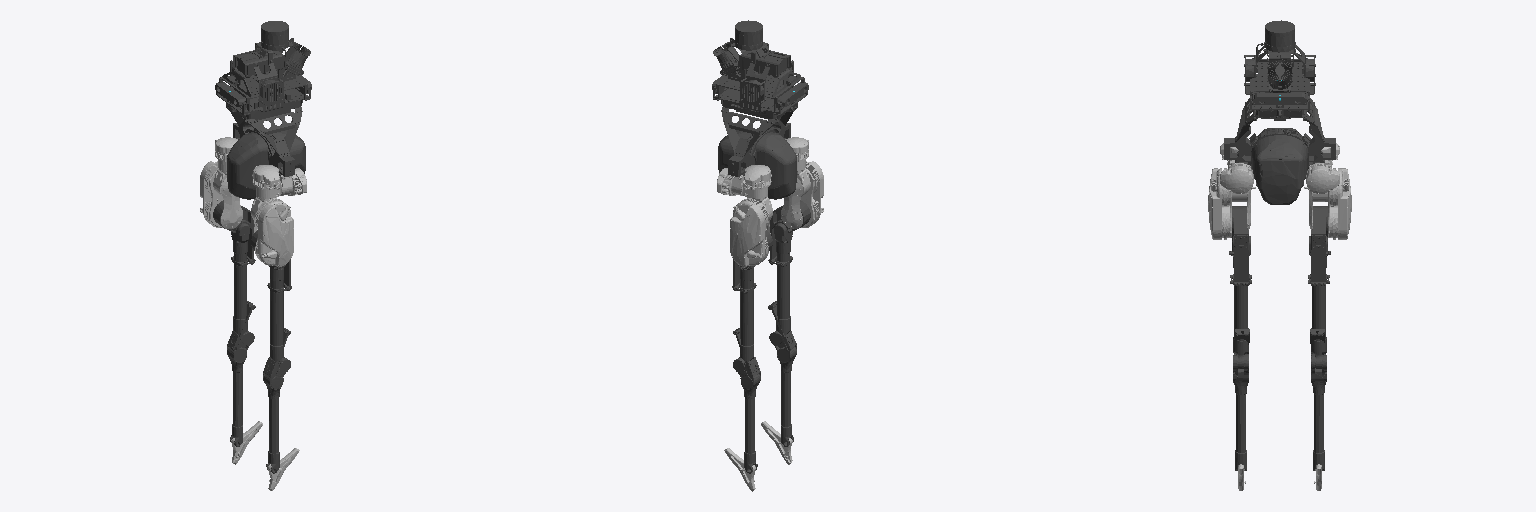
The robot description file, URDF, robot "cassie":
<?xml version="1.0" ?>
<!-- =================================================================================== -->
<!-- |    This document was autogenerated by xacro from cassie_with_torso.xacro        | -->
<!-- |    EDITING THIS FILE BY HAND IS NOT RECOMMENDED                                 | -->
<!-- =================================================================================== -->
<!-- Author: [author]
	 Email:  [email redacted]
     Date:   10/10/2018   -->
<robot name="cassie" xmlns:xacro="http://ros.org/wiki/xacro">
  <link name="torso">
    <inertial>
      <origin rpy="0 0 0" xyz="0 0 0"/>
      <mass value="8"/>
      <inertia ixx=".0942" ixy=".000169" ixz=".015" iyy=".084" iyz=".000516" izz=".113"/>
    </inertial>
    <visual>
      <origin rpy="1.57 0 1.57" xyz="-0.192 -0.19 -0.095"/>
      <geometry>
        <mesh filename="package://cassie_description/meshes/CassieTorso_Mount.STL" scale="0.001 0.001 0.001"/>
      </geometry>
      <material name="grey">
        <color rgba="0.35 0.35 0.35 1"/>
      </material>
    </visual>
  </link>
  <link name="top_lidar">
    <inertial>
      <origin rpy="0 0 0" xyz="0 0 0"/>
      <mass value="0"/>
      <inertia ixx="0" ixy="0" ixz="0" iyy="0" iyz="0" izz="0"/>
    </inertial>
    <visual>
      <origin rpy="0 0 0" xyz="0 0 0 "/>
      <geometry>
        <sphere radius="0.01"/>
      </geometry>
      <material name="cyan">
        <color rgba="0.267 0.89 1 1"/>
      </material>
    </visual>
  </link>
  <link name="tilted_lidar">
    <inertial>
      <origin rpy="0 0 0" xyz="0 0 0"/>
      <mass value="0"/>
      <inertia ixx="0" ixy="0" ixz="0" iyy="0" iyz="0" izz="0"/>
    </inertial>
    <visual>
      <origin rpy="0 0 0" xyz="0 0 0 "/>
      <geometry>
        <sphere radius="0.01"/>
      </geometry>
      <material name="cyan">
        <color rgba="0.267 0.89 1 1"/>
      </material>
    </visual>
  </link>
  <link name="front_camera">
    <inertial>
      <origin rpy="0 0 0" xyz="0 0 0"/>
      <mass value="0"/>
      <inertia ixx="0" ixy="0" ixz="0" iyy="0" iyz="0" izz="0"/>
    </inertial>
    <visual>
      <origin rpy="0 0 0" xyz="0 0 0 "/>
      <geometry>
        <sphere radius="0.01"/>
      </geometry>
      <material name="cyan">
        <color rgba="0.267 0.89 1 1"/>
      </material>
    </visual>
  </link>
  <link name="back_camera">
    <inertial>
      <origin rpy="0 0 0" xyz="0 0 0"/>
      <mass value="0"/>
      <inertia ixx="0" ixy="0" ixz="0" iyy="0" iyz="0" izz="0"/>
    </inertial>
    <visual>
      <origin rpy="0 0 0" xyz="0 0 0 "/>
      <geometry>
        <sphere radius="0.01"/>
      </geometry>
      <material name="cyan">
        <color rgba="0.267 0.89 1 1"/>
      </material>
    </visual>
  </link>
  <link name="vectorNav">
    <inertial>
      <origin rpy="0 0 0" xyz="0 0 0"/>
      <mass value="0"/>
      <inertia ixx="0" ixy="0" ixz="0" iyy="0" iyz="0" izz="0"/>
    </inertial>
  </link>
  <link name="pelvis">
    <inertial>
      <origin rpy="0 0 0" xyz=".0507 0 .0284"/>
      <mass value="10.33"/>
      <inertia ixx=".0942" ixy=".000169" ixz=".015" iyy=".084" iyz=".000516" izz=".113"/>
    </inertial>
    <visual>
      <origin rpy="0 0 0" xyz="0 0 0"/>
      <geometry>
        <mesh filename="package://cassie_description/meshes/pelvis.stl" scale="1 1 1"/>
      </geometry>
      <material name="grey">
        <color rgba="0.35 0.35 0.35 1"/>
      </material>
    </visual>
  </link>
  <link name="left_pelvis_abduction">
    <inertial>
      <origin rpy="0 0 0" xyz="0 0 0"/>
      <mass value="0"/>
      <inertia ixx="0" ixy="0" ixz="0" iyy="0" iyz="0" izz="0"/>
    </inertial>
    <visual>
      <origin rpy="0 0 0" xyz="0 0 0"/>
      <geometry>
        <mesh filename="package://cassie_description/meshes/abduction.stl" scale="1 1 1"/>
      </geometry>
      <material name="light_grey">
        <color rgba="0.75 0.75 0.75 1"/>
      </material>
    </visual>
  </link>
  <link name="left_pelvis_rotation">
    <inertial>
      <origin rpy="0 0 0" xyz=".0257 0.0001 .0179"/>
      <mass value="1.82"/>
      <inertia ixx=".00272" ixy="7.03e-07" ixz=".00000153" iyy=".00559" iyz="2.61e-06" izz=".004640"/>
    </inertial>
    <visual>
      <origin rpy="0 0 0" xyz="0 0 0"/>
      <geometry>
        <mesh filename="package://cassie_description/meshes/yaw.stl" scale="1 1 1"/>
      </geometry>
      <material name="light_grey">
        <color rgba="0.75 0.75 0.75 1"/>
      </material>
    </visual>
  </link>
  <link name="left_hip">
    <inertial>
      <origin rpy="0 0 0" xyz="-.0557 0 0"/>
      <mass value="1.17"/>
      <inertia ixx=".000842" ixy=".000000246" ixz="-.000000625" iyy=".006080" iyz="-.00000004" izz=".006440"/>
    </inertial>
    <visual>
      <origin rpy="0 0 0" xyz="0 0 0"/>
      <geometry>
        <mesh filename="package://cassie_description/meshes/hip.stl" scale="1 1 1"/>
      </geometry>
      <material name="light_grey">
        <color rgba="0.75 0.75 0.75 1"/>
      </material>
    </visual>
  </link>
  <link name="left_thigh">
    <inertial>
      <origin rpy="0 0 0" xyz=".0598 .0001 -0.0358"/>
      <mass value="5.52"/>
      <inertia ixx=".018" ixy=".000284" ixz="-0.0117" iyy=".0563" iyz="-1.93e-05" izz=".0498"/>
    </inertial>
    <visual>
      <origin rpy="0 0 0" xyz="0 0 0"/>
      <geometry>
        <mesh filename="package://cassie_description/meshes/thigh.stl" scale="1 1 1"/>
      </geometry>
      <material name="light_grey">
        <color rgba="0.75 0.75 0.75 1"/>
      </material>
    </visual>
  </link>
  <link name="left_knee">
    <inertial>
      <origin rpy="0 0 0" xyz=".023 .0321 -0.0022"/>
      <mass value=".758"/>
      <inertia ixx=".002160" ixy=".000956" ixz="2.84e-06" iyy=".00144" iyz="7.39e-07" izz=".00334"/>
    </inertial>
    <visual>
      <origin rpy="0 0 0" xyz="0 0 0"/>
      <geometry>
        <mesh filename="package://cassie_description/meshes/knee-output.stl" scale="1 1 1"/>
      </geometry>
      <material name="grey">
        <color rgba="0.35 0.35 0.35 1"/>
      </material>
    </visual>
  </link>
  <link name="left_shin">
    <inertial>
      <origin rpy="0 0 0" xyz=".1834 .0012 0.0002"/>
      <mass value=".577"/>
      <inertia ixx=".000360" ixy=".000334" ixz="-1.94e-07" iyy=".0341" iyz="2.65e-07" izz=".0341"/>
    </inertial>
    <visual>
      <origin rpy="0 0 0" xyz="0 0 0"/>
      <geometry>
        <mesh filename="package://cassie_description/meshes/shin-bone.stl" scale="1 1 1"/>
      </geometry>
      <material name="grey">
        <color rgba="0.35 0.35 0.35 1"/>
      </material>
    </visual>
  </link>
  <link name="left_tarsus">
    <inertial>
      <origin rpy="0 0 0" xyz=".1105 -.0306 -0.0013"/>
      <mass value=".782"/>
      <inertia ixx=".00113" ixy="-.00288" ixz="-6.33e-05" iyy=".0231" iyz="3.62e-05" izz=".0239"/>
    </inertial>
    <visual>
      <origin rpy="0 0 0" xyz="0 0 0"/>
      <geometry>
        <mesh filename="package://cassie_description/meshes/tarsus.stl" scale="1 1 1"/>
      </geometry>
      <material name="grey">
        <color rgba="0.35 0.35 0.35 1"/>
      </material>
    </visual>
  </link>
  <link name="left_toe">
    <inertial>
      <origin rpy="0 0 0" xyz=".0047 .0275 -0.0001"/>
      <mass value=".15"/>
      <inertia ixx=".000287" ixy="-.0000986" ixz="-1.46e-06" iyy=".000171" iyz="1.72e-07" izz=".000449"/>
    </inertial>
    <visual>
      <origin rpy="0 0 0" xyz="0 0 0"/>
      <geometry>
        <mesh filename="package://cassie_description/meshes/toe.stl" scale="1 1 1"/>
      </geometry>
      <material name="light_grey">
        <color rgba="0.75 0.75 0.75 1"/>
      </material>
    </visual>
  </link>
  <link name="right_pelvis_abduction">
    <inertial>
      <origin rpy="0 0 0" xyz="0 0 0"/>
      <mass value="0"/>
      <inertia ixx="0" ixy="0" ixz="0" iyy="0" iyz="0" izz="0"/>
    </inertial>
    <visual>
      <origin rpy="0 0 0" xyz="0 0 0"/>
      <geometry>
        <mesh filename="package://cassie_description/meshes/abduction_mirror.stl" scale="1 1 1"/>
      </geometry>
      <material name="light_grey">
        <color rgba="0.75 0.75 0.75 1"/>
      </material>
    </visual>
  </link>
  <link name="right_pelvis_rotation">
    <inertial>
      <origin rpy="0 0 0" xyz=".0257 -0.0001 .0179"/>
      <mass value="1.82"/>
      <inertia ixx=".00272" ixy="-7.03e-07" ixz=".00000153" iyy=".00559" iyz="-2.61e-06" izz=".004640"/>
    </inertial>
    <visual>
      <origin rpy="0 0 0" xyz="0 0 0"/>
      <geometry>
        <mesh filename="package://cassie_description/meshes/yaw_mirror.stl" scale="1 1 1"/>
      </geometry>
      <material name="light_grey">
        <color rgba="0.75 0.75 0.75 1"/>
      </material>
    </visual>
  </link>
  <link name="right_hip">
    <inertial>
      <origin rpy="0 0 0" xyz="-.0557 0 0"/>
      <mass value="1.17"/>
      <inertia ixx=".000842" ixy=".000000246" ixz="-.000000625" iyy=".006080" iyz="-.00000004" izz=".006440"/>
    </inertial>
    <visual>
      <origin rpy="0 0 0" xyz="0 0 0"/>
      <geometry>
        <mesh filename="package://cassie_description/meshes/hip_mirror.stl" scale="1 1 1"/>
      </geometry>
      <material name="light_grey">
        <color rgba="0.75 0.75 0.75 1"/>
      </material>
    </visual>
  </link>
  <link name="right_thigh">
    <inertial>
      <origin rpy="0 0 0" xyz=".0598 .0001 0.0358"/>
      <mass value="5.52"/>
      <inertia ixx=".018" ixy=".000284" ixz="0.0117" iyy=".0563" iyz="1.93e-05" izz=".0498"/>
    </inertial>
    <visual>
      <origin rpy="0 0 0" xyz="0 0 0"/>
      <geometry>
        <mesh filename="package://cassie_description/meshes/thigh_mirror.stl" scale="1 1 1"/>
      </geometry>
      <material name="light_grey">
        <color rgba="0.75 0.75 0.75 1"/>
      </material>
    </visual>
  </link>
  <link name="right_knee">
    <inertial>
      <origin rpy="0 0 0" xyz=".023 .0321 0.0022"/>
      <mass value=".758"/>
      <inertia ixx=".002160" ixy=".000956" ixz="-2.84e-06" iyy=".00144" iyz="-7.39e-07" izz=".00334"/>
    </inertial>
    <visual>
      <origin rpy="0 0 0" xyz="0 0 0"/>
      <geometry>
        <mesh filename="package://cassie_description/meshes/knee-output_mirror.stl" scale="1 1 1"/>
      </geometry>
      <material name="grey">
        <color rgba="0.35 0.35 0.35 1"/>
      </material>
    </visual>
  </link>
  <link name="right_shin">
    <inertial>
      <origin rpy="0 0 0" xyz=".1834 .0012 -0.0002"/>
      <mass value=".577"/>
      <inertia ixx=".000360" ixy=".000334" ixz="1.94e-07" iyy=".0341" iyz="-2.65e-07" izz=".0341"/>
    </inertial>
    <visual>
      <origin rpy="0 0 0" xyz="0 0 0"/>
      <geometry>
        <mesh filename="package://cassie_description/meshes/shin-bone_mirror.stl" scale="1 1 1"/>
      </geometry>
      <material name="grey">
        <color rgba="0.35 0.35 0.35 1"/>
      </material>
    </visual>
  </link>
  <link name="right_tarsus">
    <inertial>
      <origin rpy="0 0 0" xyz=".1105 -.0306 0.0013"/>
      <mass value=".782"/>
      <inertia ixx=".00113" ixy="-.00288" ixz="6.33e-05" iyy=".0231" iyz="-3.62e-05" izz=".0239"/>
    </inertial>
    <visual>
      <origin rpy="0 0 0" xyz="0 0 0"/>
      <geometry>
        <mesh filename="package://cassie_description/meshes/tarsus_mirror.stl" scale="1 1 1"/>
      </geometry>
      <material name="grey">
        <color rgba="0.35 0.35 0.35 1"/>
      </material>
    </visual>
  </link>
  <link name="right_toe">
    <inertial>
      <origin rpy="0 0 0" xyz=".0047 .0275 0.0001"/>
      <mass value=".15"/>
      <inertia ixx=".000287" ixy="-.0000986" ixz="1.46e-06" iyy=".000171" iyz="-1.72e-07" izz=".000449"/>
    </inertial>
    <visual>
      <origin rpy="0 0 0" xyz="0 0 0"/>
      <geometry>
        <mesh filename="package://cassie_description/meshes/toe_mirror.stl" scale="1 1 1"/>
      </geometry>
      <material name="light_grey">
        <color rgba="0.75 0.75 0.75 1"/>
      </material>
    </visual>
  </link>
  <joint name="fixed_torso_to_pelvis" type="fixed">
    <origin rpy="0 0 0" xyz="0 0 -0.15"/>
    <parent link="torso"/>
    <child link="pelvis"/>
  </joint>
  <joint name="fixed_torso_to_top_lidar" type="fixed">
    <origin rpy="0 0 0" xyz="0.065 0 0.38"/>
    <parent link="torso"/>
    <child link="top_lidar"/>
  </joint>
  <joint name="fixed_torso_to_tilted_lidar" type="fixed">
    <origin rpy="0 0.65 0" xyz="0.14 0 0.25"/>
    <parent link="torso"/>
    <child link="tilted_lidar"/>
  </joint>
  <joint name="fixed_torso_to_front_camera" type="fixed">
    <origin rpy="0 0 0" xyz="0.16 0 0.19"/>
    <parent link="torso"/>
    <child link="front_camera"/>
  </joint>
  <joint name="fixed_torso_to_back_camera" type="fixed">
    <origin rpy="0 0 3.14" xyz="-0.12 0 0.19"/>
    <parent link="torso"/>
    <child link="back_camera"/>
  </joint>
  <joint name="fixed_pelvis_to_vectorNav" type="fixed">
    <origin rpy="0 0 0" xyz="0.03155 0 -0.07996"/>
    <parent link="pelvis"/>
    <child link="vectorNav"/>
  </joint>
  <joint name="fixed_left" type="fixed">
    <origin rpy="0 1.57079632679 0" xyz="0.021 0.135 0"/>
    <parent link="pelvis"/>
    <child link="left_pelvis_abduction"/>
  </joint>
  <joint name="hip_abduction_left" type="continuous">
    <origin rpy="0 -1.57079632679 0" xyz="0 0 -0.07"/>
    <axis xyz="1 0 0"/>
    <parent link="left_pelvis_abduction"/>
    <child link="left_pelvis_rotation"/>
    <limit effort="4.5" lower="-0.2618" upper="0.3927" velocity="12.1475"/>
  </joint>
  <joint name="hip_rotation_left" type="continuous">
    <origin rpy="0 1.57079632679 -1.57079632679" xyz="0 0 -0.09"/>
    <axis xyz="-1 0 0"/>
    <parent link="left_pelvis_rotation"/>
    <child link="left_hip"/>
    <limit effort="4.5" lower="-0.3927" upper="0.3927" velocity="12.1475"/>
  </joint>
  <joint name="hip_flexion_left" type="continuous">
    <origin rpy="0 0 0" xyz="0 0 0"/>
    <axis xyz="0 0 1"/>
    <parent link="left_hip"/>
    <child link="left_thigh"/>
    <limit effort="12.2" lower="-0.8727" upper="1.3963" velocity="8.5085"/>
  </joint>
  <joint name="knee_joint_left" type="continuous">
    <origin rpy="0 0 0" xyz="0.12 0 0.0045"/>
    <axis xyz="0 0 1"/>
    <parent link="left_thigh"/>
    <child link="left_knee"/>
    <limit effort="12.2" lower="-2.8623" upper="-0.6458" velocity="8.5085"/>
  </joint>
  <joint name="knee_to_shin_left" type="continuous">
    <origin rpy="0 0 0" xyz="0.0607 0.0474 0"/>
    <axis xyz="0 0 1"/>
    <parent link="left_knee"/>
    <child link="left_shin"/>
    <limit effort="0" lower="-100" upper="100" velocity="100"/>
  </joint>
  <joint name="ankle_joint_left" type="continuous">
    <origin rpy="0 0 0" xyz="0.4348 0.02 0"/>
    <axis xyz="0 0 1"/>
    <parent link="left_shin"/>
    <child link="left_tarsus"/>
    <limit effort="0" lower="-100" upper="100" velocity="100"/>
  </joint>
  <joint name="toe_joint_left" type="continuous">
    <origin rpy="0 0 0" xyz="0.408 -0.04 0"/>
    <axis xyz="0 0 1"/>
    <parent link="left_tarsus"/>
    <child link="left_toe"/>
    <limit effort="0.9" lower="-2.4435" upper="-0.5236" velocity="11.5192"/>
  </joint>
  <joint name="fixed_right" type="fixed">
    <origin rpy="0 1.57079632679 0" xyz="0.021 -0.135 0"/>
    <parent link="pelvis"/>
    <child link="right_pelvis_abduction"/>
  </joint>
  <joint name="hip_abduction_right" type="continuous">
    <origin rpy="0 -1.57079632679 0" xyz="0 0 -0.07"/>
    <axis xyz="1 0 0"/>
    <parent link="right_pelvis_abduction"/>
    <child link="right_pelvis_rotation"/>
    <limit effort="4.5" lower="-0.3927" upper="0.2618" velocity="12.1475"/>
  </joint>
  <joint name="hip_rotation_right" type="continuous">
    <origin rpy="0 1.57079632679 -1.57079632679" xyz="0 0 -0.09"/>
    <axis xyz="-1 0 0"/>
    <parent link="right_pelvis_rotation"/>
    <child link="right_hip"/>
    <limit effort="4.5" lower="-0.3927" upper="0.3927" velocity="12.1475"/>
  </joint>
  <joint name="hip_flexion_right" type="continuous">
    <origin rpy="0 0 0" xyz="0 0 0"/>
    <axis xyz="0 0 1"/>
    <parent link="right_hip"/>
    <child link="right_thigh"/>
    <limit effort="12.2" lower="-0.8727" upper="1.3963" velocity="8.5085"/>
  </joint>
  <joint name="knee_joint_right" type="continuous">
    <origin rpy="0 0 0" xyz="0.12 0 -0.0045"/>
    <axis xyz="0 0 1"/>
    <parent link="right_thigh"/>
    <child link="right_knee"/>
    <limit effort="12.2" lower="-2.8623" upper="-0.6458" velocity="8.5085"/>
  </joint>
  <joint name="knee_to_shin_right" type="continuous">
    <origin rpy="0 0 0" xyz="0.0607 0.0474 0"/>
    <axis xyz="0 0 1"/>
    <parent link="right_knee"/>
    <child link="right_shin"/>
    <limit effort="0" lower="-100" upper="100" velocity="100"/>
  </joint>
  <joint name="ankle_joint_right" type="continuous">
    <origin rpy="0 0 0" xyz="0.4348 0.02 0"/>
    <axis xyz="0 0 1"/>
    <parent link="right_shin"/>
    <child link="right_tarsus"/>
    <limit effort="0" lower="-100" upper="100" velocity="100"/>
  </joint>
  <joint name="toe_joint_right" type="continuous">
    <origin rpy="0 0 0" xyz="0.408 -0.04 0"/>
    <axis xyz="0 0 1"/>
    <parent link="right_tarsus"/>
    <child link="right_toe"/>
    <limit effort="0.9" lower="-2.4435" upper="-0.5236" velocity="11.5192"/>
  </joint>
  <transmission name="hip_abduction_trans_left" type="transmission_interface/SimpleTransmission">
    <joint name="hip_abduction_left"/>
    <actuator name="hip_abduction_motor_left"/>
    <motorInertia>0.000061</motorInertia>
    <mechanicalReduction>25</mechanicalReduction>
  </transmission>
  <transmission name="hip_rotation_trans_left" type="transmission_interface/SimpleTransmission">
    <joint name="hip_rotation_left"/>
    <actuator name="hip_rotation_motor_left"/>
    <motorInertia>0.000061</motorInertia>
    <mechanicalReduction>25</mechanicalReduction>
  </transmission>
  <transmission name="hip_flexion_trans_left" type="transmission_interface/SimpleTransmission">
    <joint name="hip_flexion_left"/>
    <actuator name="hip_flexion_motor_left"/>
    <motorInertia>0.000365</motorInertia>
    <mechanicalReduction>16</mechanicalReduction>
  </transmission>
  <transmission name="knee_joint_trans_left" type="transmission_interface/SimpleTransmission">
    <joint name="knee_joint_left"/>
    <actuator name="knee_joint_motor_left"/>
    <motorInertia>0.000365</motorInertia>
    <mechanicalReduction>16</mechanicalReduction>
  </transmission>
  <transmission name="toe_joint_trans_left" type="transmission_interface/SimpleTransmission">
    <joint name="toe_joint_left"/>
    <actuator name="toe_joint_motor_left"/>
    <motorInertia>0.0000049</motorInertia>
    <mechanicalReduction>50</mechanicalReduction>
  </transmission>
  <transmission name="hip_abduction_trans_right" type="transmission_interface/SimpleTransmission">
    <joint name="hip_abduction_right"/>
    <actuator name="hip_abduction_motor_right"/>
    <motorInertia>0.000061</motorInertia>
    <mechanicalReduction>25</mechanicalReduction>
  </transmission>
  <transmission name="hip_rotation_trans_right" type="transmission_interface/SimpleTransmission">
    <joint name="hip_rotation_right"/>
    <actuator name="hip_rotation_motor_right"/>
    <motorInertia>0.000061</motorInertia>
    <mechanicalReduction>25</mechanicalReduction>
  </transmission>
  <transmission name="hip_flexion_trans_right" type="transmission_interface/SimpleTransmission">
    <joint name="hip_flexion_right"/>
    <actuator name="hip_flexion_motor_right"/>
    <motorInertia>0.000365</motorInertia>
    <mechanicalReduction>16</mechanicalReduction>
  </transmission>
  <transmission name="knee_joint_trans_right" type="transmission_interface/SimpleTransmission">
    <joint name="knee_joint_right"/>
    <actuator name="knee_joint_motor_right"/>
    <motorInertia>0.000365</motorInertia>
    <mechanicalReduction>16</mechanicalReduction>
  </transmission>
  <transmission name="toe_joint_trans_right" type="transmission_interface/SimpleTransmission">
    <joint name="toe_joint_right"/>
    <actuator name="toe_joint_motor_right"/>
    <motorInertia>0.0000049</motorInertia>
    <mechanicalReduction>50</mechanicalReduction>
  </transmission>
</robot>

--- Facts derived from the render (not from the file) ---
Views: 3 orthographic renders of the robot side by side, from view 1: azimuth 30°, elevation 25°; view 2: azimuth 150°, elevation 25°; view 3: azimuth 270°, elevation 25°.
Robot: cassie — 23 links, 22 joints (14 continuous, 8 fixed); root link torso; default pose: all joints at 0.
Links seen in each view (by area): view 1: torso, pelvis, right_thigh, left_thigh, left_tarsus, right_tarsus, left_shin, right_shin, right_pelvis_rotation, left_knee, right_pelvis_abduction; view 2: torso, pelvis, left_thigh, right_tarsus, right_thigh, left_tarsus, right_shin, left_shin, left_pelvis_rotation, right_knee, left_pelvis_abduction; view 3: torso, pelvis, left_thigh, right_thigh, right_tarsus, left_tarsus, right_knee, left_knee, left_shin, right_shin, left_pelvis_abduction, right_pelvis_abduction.
Link boxes in pixels (x1=…): torso: x1=215, y1=21, x2=311, y2=176; pelvis: x1=227, y1=128, x2=305, y2=199; right_thigh: x1=253, y1=198, x2=293, y2=267; left_thigh: x1=200, y1=161, x2=242, y2=228; left_tarsus: x1=227, y1=301, x2=255, y2=446; right_tarsus: x1=263, y1=328, x2=290, y2=473; left_shin: x1=231, y1=223, x2=252, y2=334; right_shin: x1=267, y1=265, x2=289, y2=361; right_pelvis_rotation: x1=252, y1=165, x2=282, y2=198; left_knee: x1=213, y1=200, x2=255, y2=264; right_pelvis_abduction: x1=280, y1=168, x2=306, y2=195; torso: x1=712, y1=20, x2=808, y2=176; pelvis: x1=718, y1=128, x2=796, y2=199; left_thigh: x1=730, y1=198, x2=770, y2=267; right_tarsus: x1=768, y1=301, x2=796, y2=446; right_thigh: x1=781, y1=161, x2=823, y2=228; left_tarsus: x1=733, y1=328, x2=760, y2=473; right_shin: x1=771, y1=223, x2=792, y2=334; left_shin: x1=734, y1=265, x2=756, y2=361; left_pelvis_rotation: x1=741, y1=165, x2=771, y2=198; right_knee: x1=768, y1=200, x2=810, y2=264; left_pelvis_abduction: x1=717, y1=168, x2=743, y2=195; torso: x1=1224, y1=20, x2=1335, y2=159; pelvis: x1=1235, y1=128, x2=1324, y2=204; left_thigh: x1=1304, y1=168, x2=1351, y2=239; right_thigh: x1=1208, y1=168, x2=1255, y2=239; right_tarsus: x1=1233, y1=328, x2=1249, y2=470; left_tarsus: x1=1310, y1=328, x2=1326, y2=470; right_knee: x1=1230, y1=206, x2=1251, y2=285; left_knee: x1=1308, y1=206, x2=1329, y2=285; left_shin: x1=1308, y1=236, x2=1330, y2=368; right_shin: x1=1229, y1=236, x2=1251, y2=368; left_pelvis_abduction: x1=1306, y1=160, x2=1339, y2=193; right_pelvis_abduction: x1=1220, y1=160, x2=1253, y2=193.
Bounding box of the posed robot: 0.3432 × 0.4824 × 1.76 m (x, y, z).
Meshes: 18 distinct files referenced, 18 mesh visuals loaded (18 binary STL).
